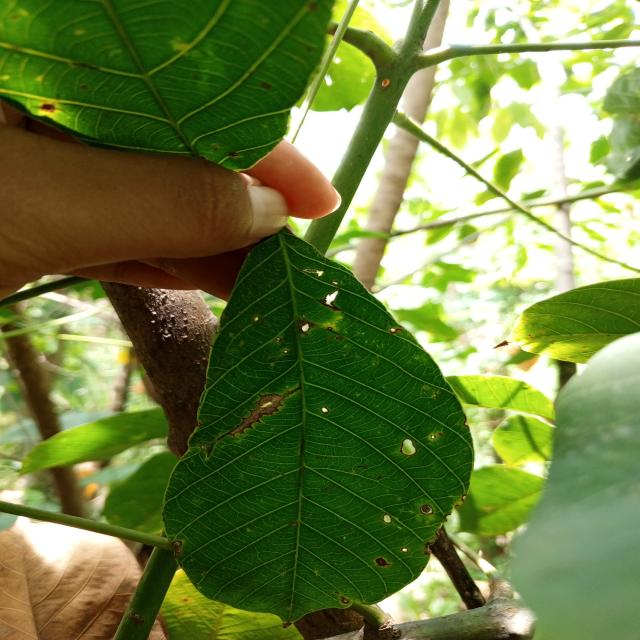Colletotrichum: (419, 504, 434, 515), (382, 514, 392, 524), (320, 406, 329, 414), (430, 434, 436, 439), (283, 349, 288, 354), (328, 327, 332, 330)
Corynespora: (217, 385, 302, 441)
